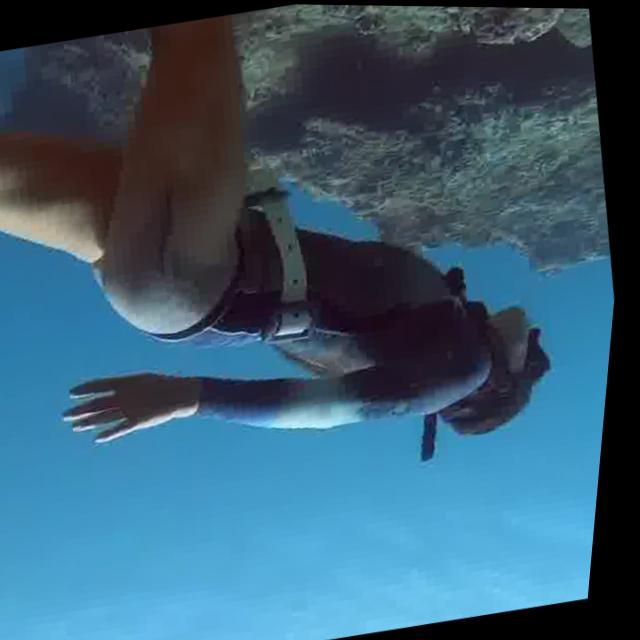human: (0, 0, 613, 550)
